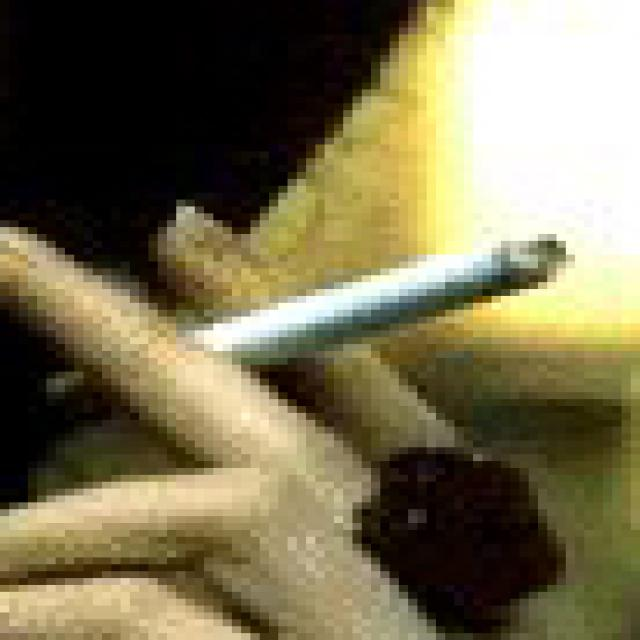smoking: (45, 231, 565, 415)
